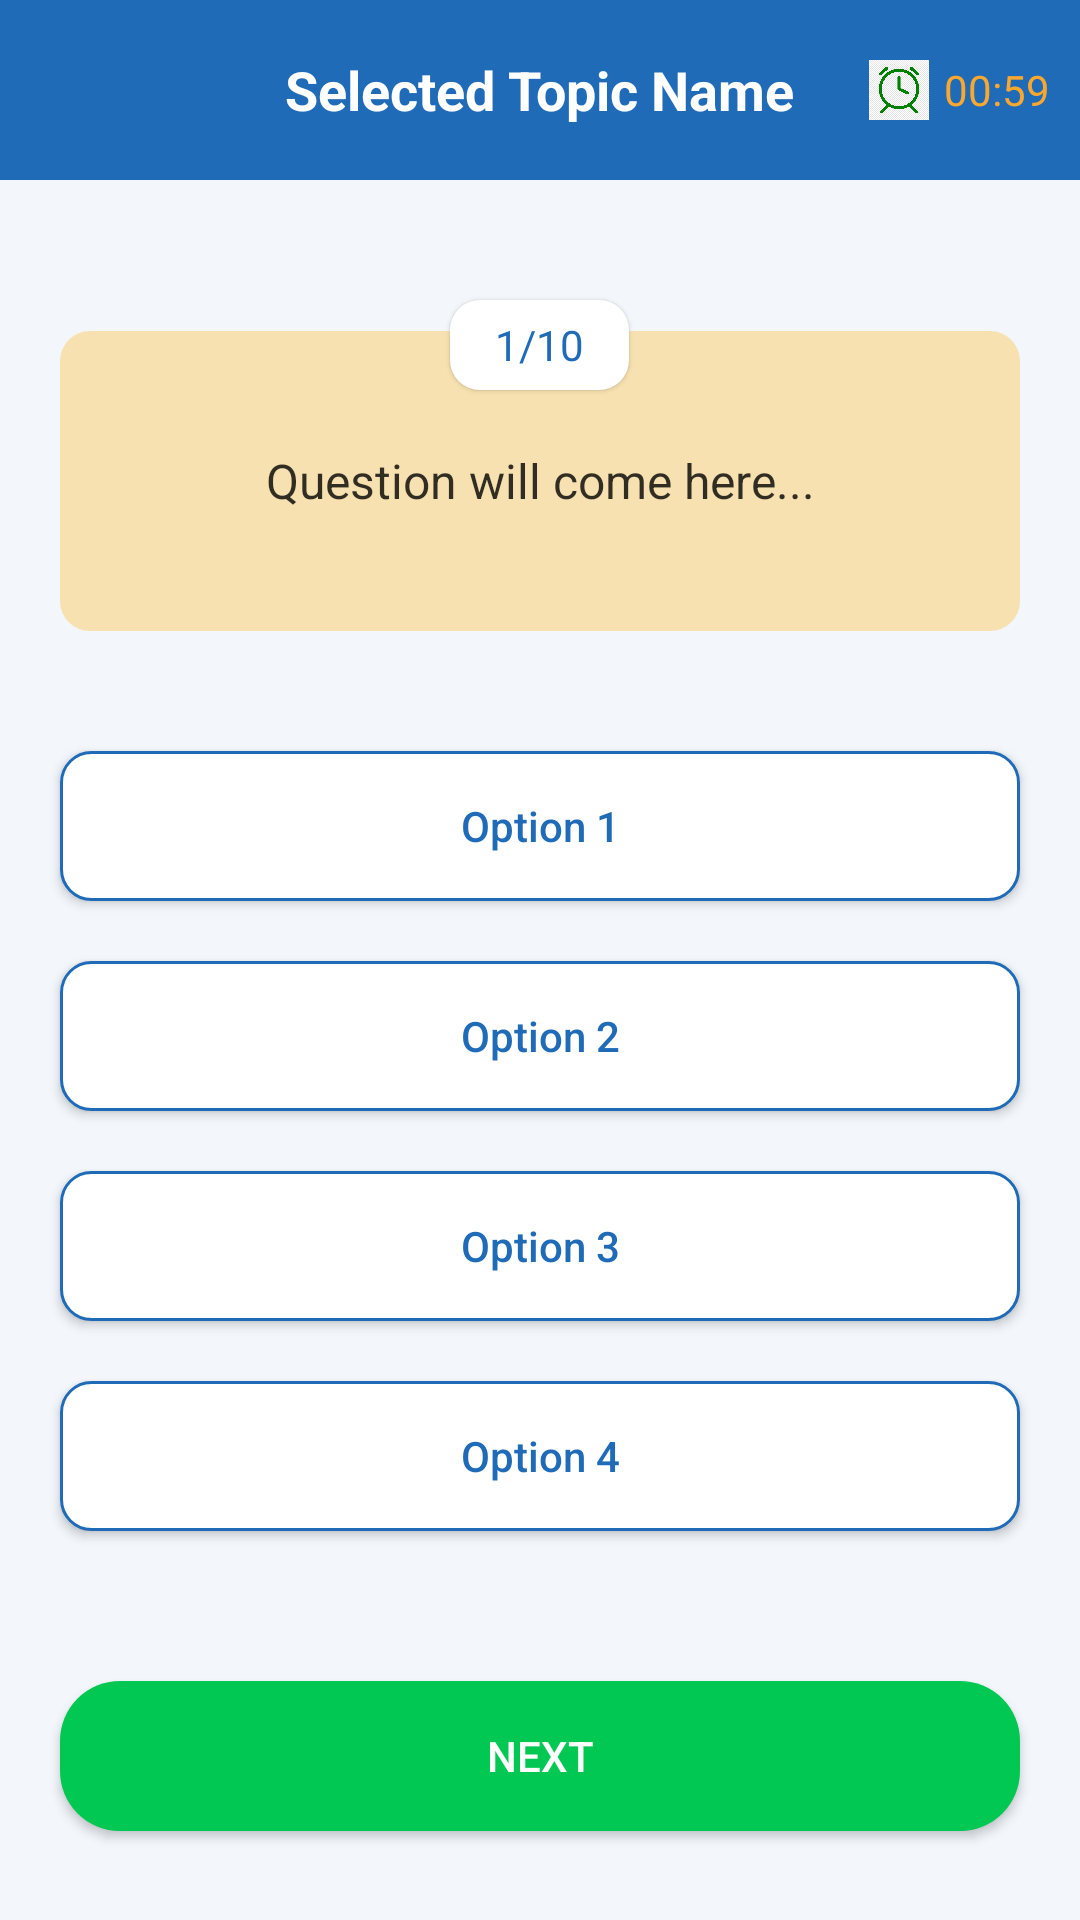

Where icons sit on this 1080×1920 app screen, as (x1, y1, x2, y2):
timer: (869, 60, 929, 120)
